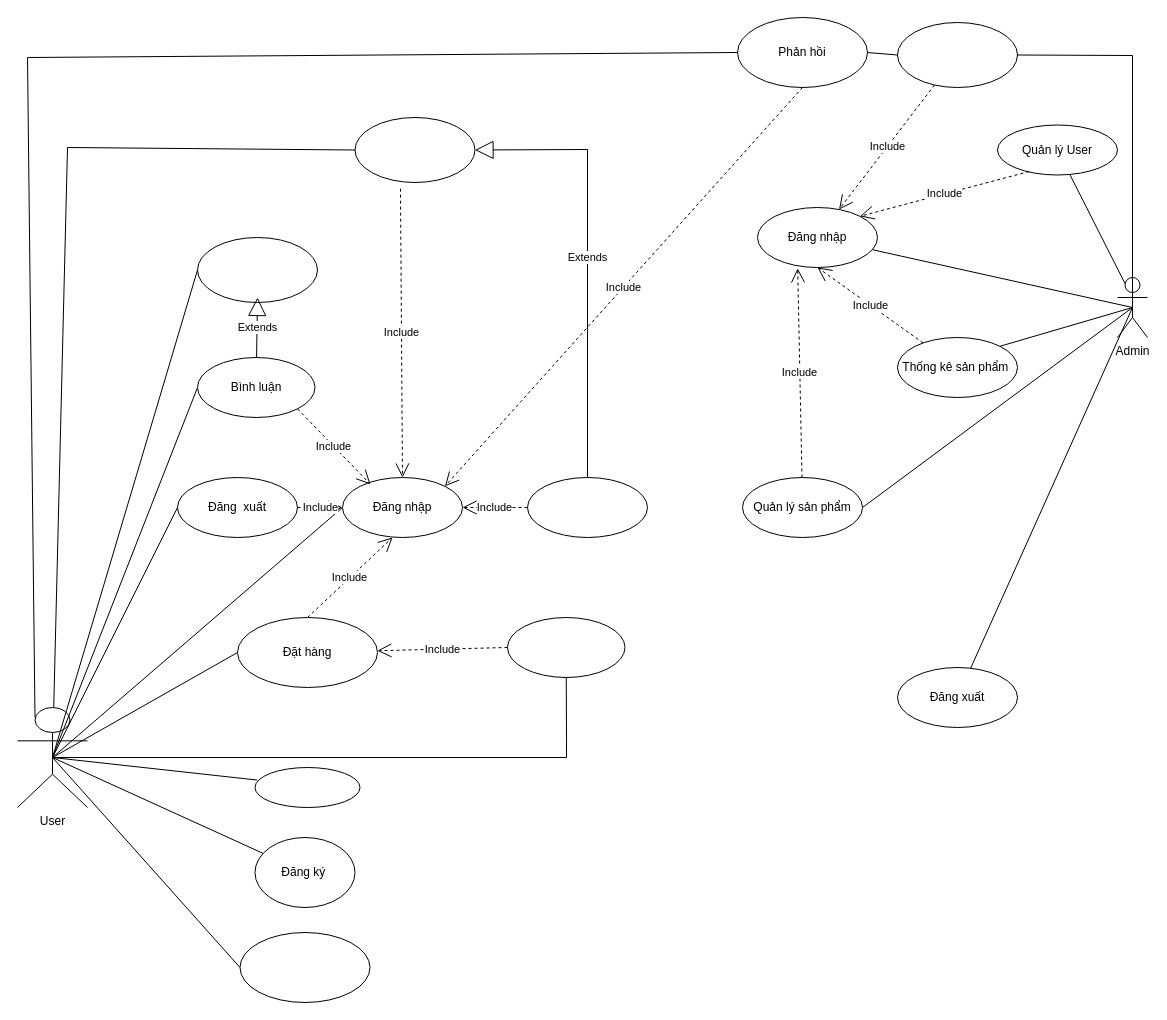
Image size: 1167x1020. Some labels were removed from this diagram. Each missing label, with the centre of its shape:
"Quản lý giỏ hàng" goes at point (587, 507).
"Thanh toán" goes at point (565, 647).
"Trả lời phản hồi" goes at point (957, 55).
"Tìm kiếm" goes at point (307, 787).
"Xem chi tiết sản phầm" goes at point (257, 269).
"Xem danh sách sản phẩm" goes at point (304, 967).
"Xem thông tin cá nhân" goes at point (414, 149).
